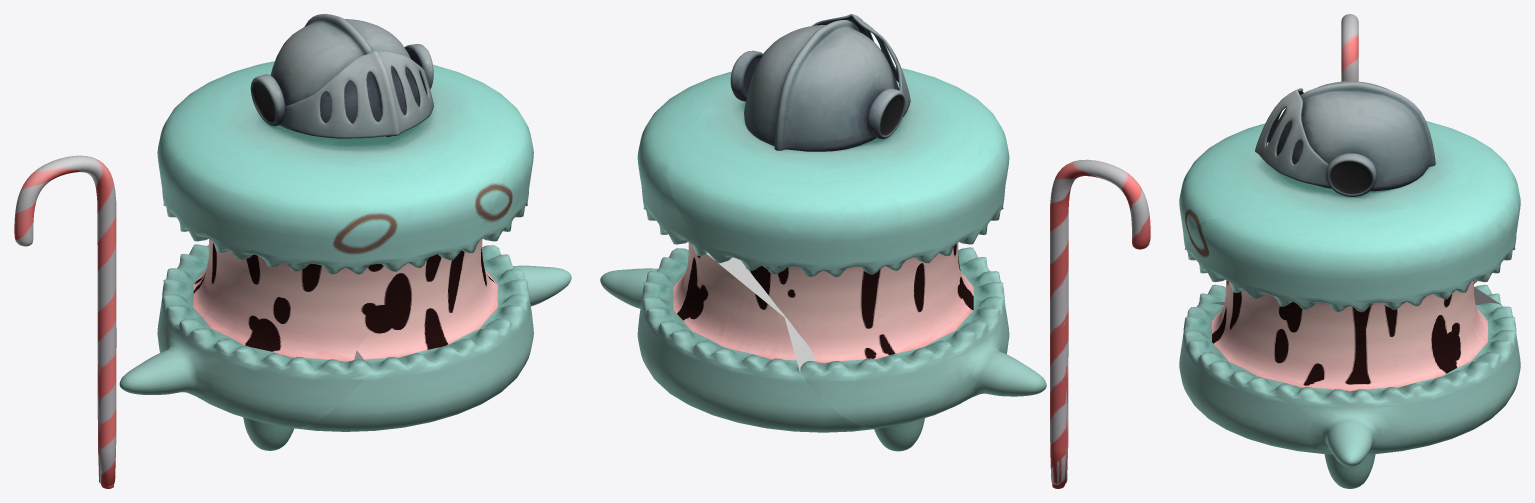
Rendered from MacaronSoldier_Sliced.fbx.
The picture shows the model from 3 angles, left to right: view 1: azimuth 30°, elevation 25°; view 2: azimuth 150°, elevation 25°; view 3: azimuth 270°, elevation 25°; orthographic projection. The views are drawn at different scales.
Visible parts, largest first — view 1: MacaronSolider_Sliced_Left, MacaronSolider_Sliced_Right, MacaronSolider_Sliced_Top, MacaronSolider_Sliced_Cane; view 2: MacaronSolider_Sliced_Left, MacaronSolider_Sliced_Right, MacaronSolider_Sliced_Top, MacaronSolider_Sliced_Cane; view 3: MacaronSolider_Sliced_Right, MacaronSolider_Sliced_Left, MacaronSolider_Sliced_Top, MacaronSolider_Sliced_Cane.
Boxes of the visible parts, x1=… form: MacaronSolider_Sliced_Left: x1=119, y1=61, x2=503, y2=427; MacaronSolider_Sliced_Right: x1=207, y1=64, x2=571, y2=450; MacaronSolider_Sliced_Top: x1=250, y1=14, x2=433, y2=138; MacaronSolider_Sliced_Cane: x1=14, y1=155, x2=116, y2=488; MacaronSolider_Sliced_Left: x1=667, y1=67, x2=1046, y2=428; MacaronSolider_Sliced_Right: x1=600, y1=71, x2=924, y2=451; MacaronSolider_Sliced_Top: x1=730, y1=14, x2=910, y2=151; MacaronSolider_Sliced_Cane: x1=1050, y1=159, x2=1150, y2=488; MacaronSolider_Sliced_Right: x1=1179, y1=209, x2=1520, y2=488; MacaronSolider_Sliced_Left: x1=1179, y1=121, x2=1520, y2=305; MacaronSolider_Sliced_Top: x1=1255, y1=81, x2=1435, y2=196; MacaronSolider_Sliced_Cane: x1=1341, y1=14, x2=1358, y2=81.
Bounding box in the file's own units: 144 × 101 × 84.29.
